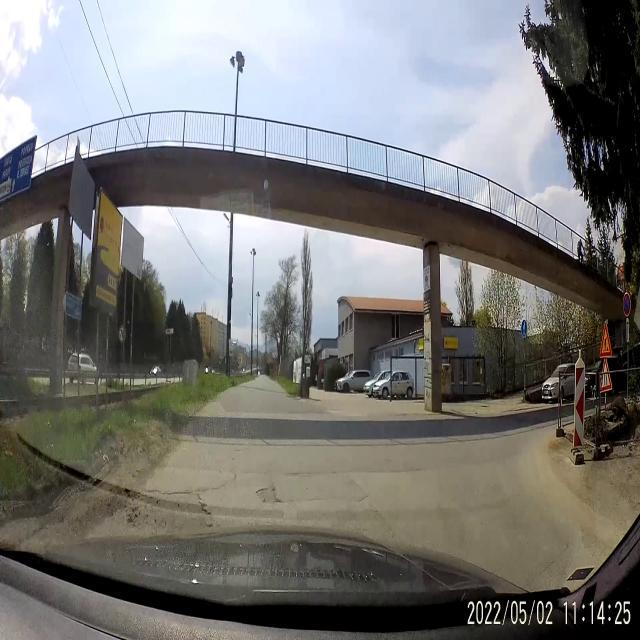Pothole: (122, 474, 214, 534), (250, 468, 288, 512)
